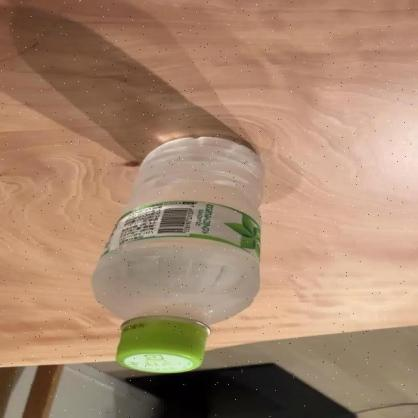bottle: (88, 133, 267, 376)
cap: (111, 318, 214, 376)
label: (93, 203, 257, 258)
